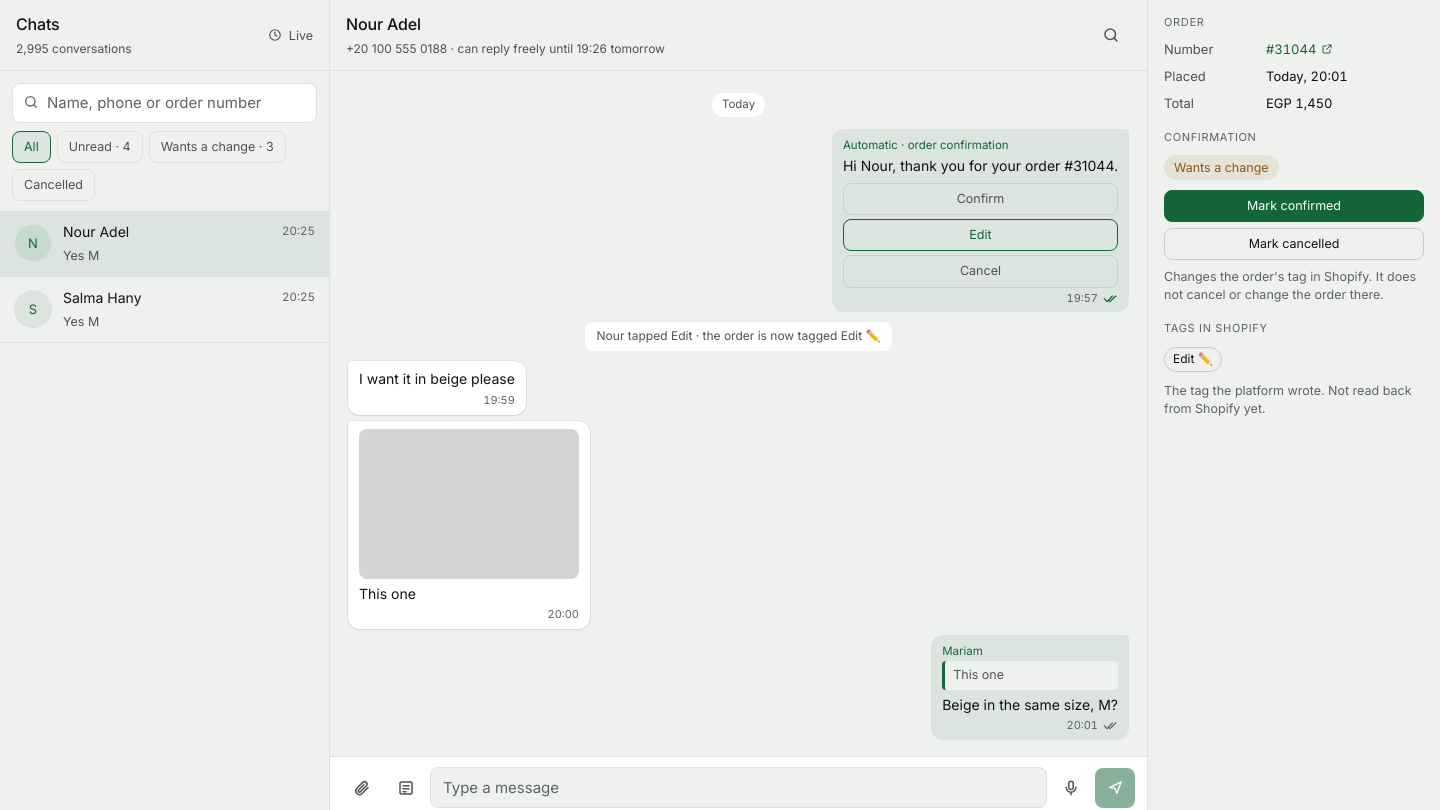
it: an open chat › keeps the words and gives the reason when a message may not be sent
This screenshot has width=1440, height=810.
In the text box labelled "message": (738,787) [430,767,1047,808], type "Hello"
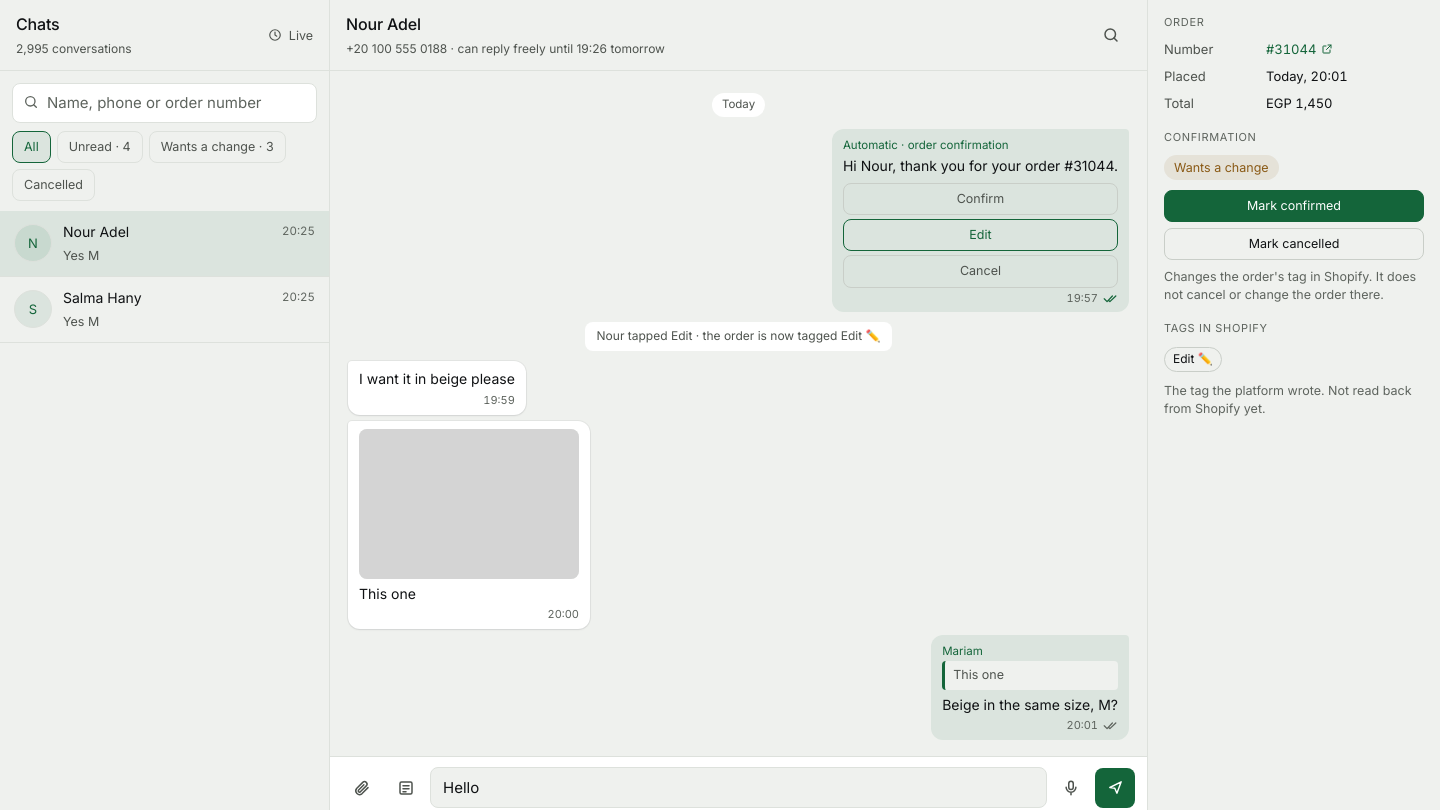
Click the button named "Send": (1115,788) [1095,768,1135,808]
(page scrolled)
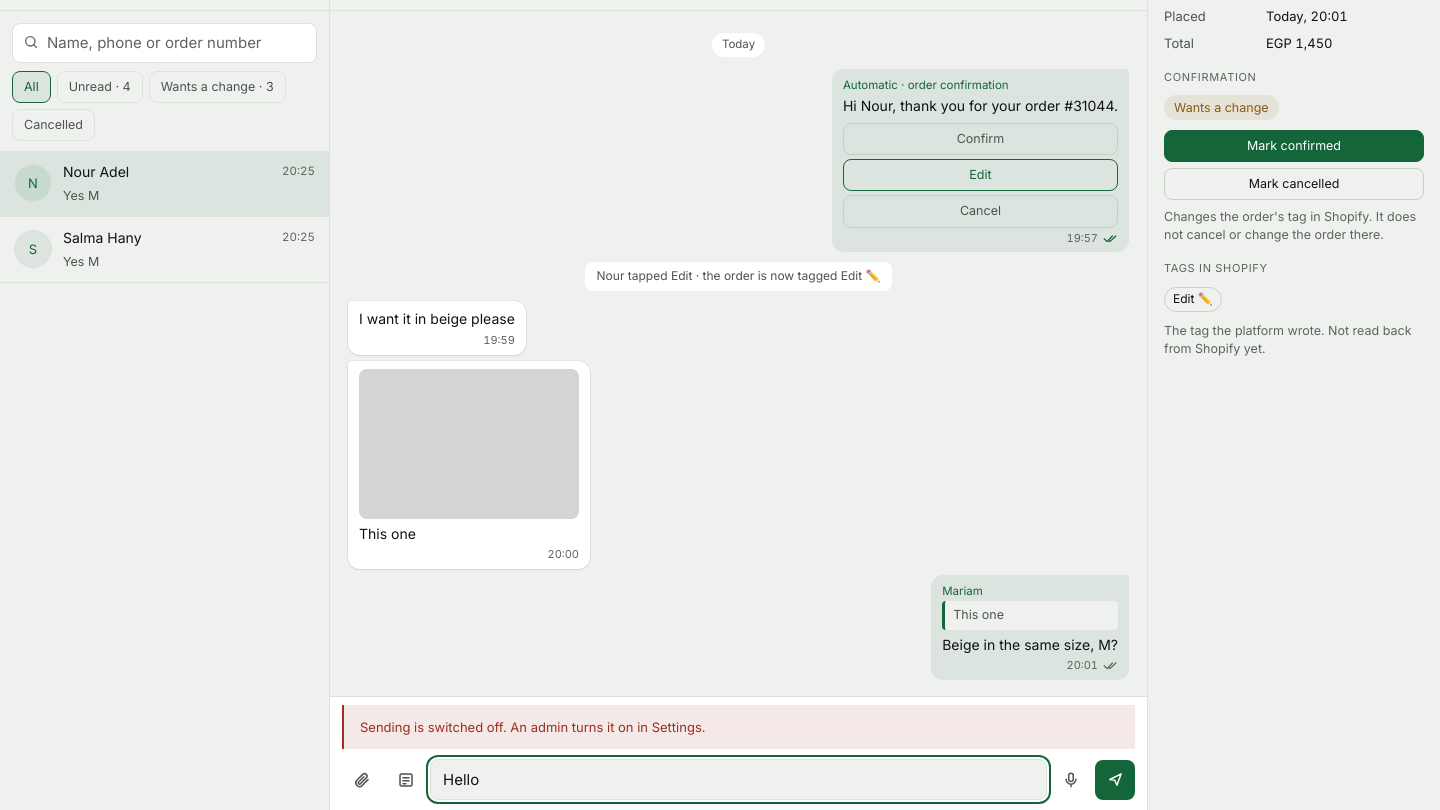
expect the message reads "Sending is switched off. An admin turns it on in Settings.": met, box [360,719,706,735]
